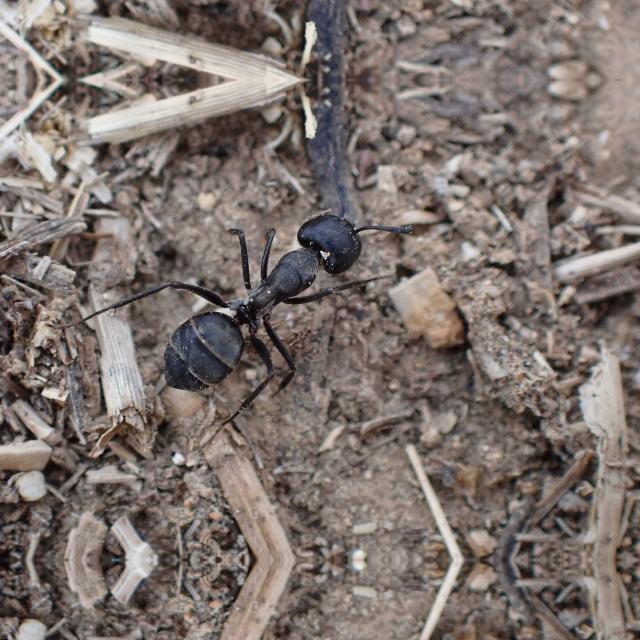Camponotus: (120, 184, 418, 423)
